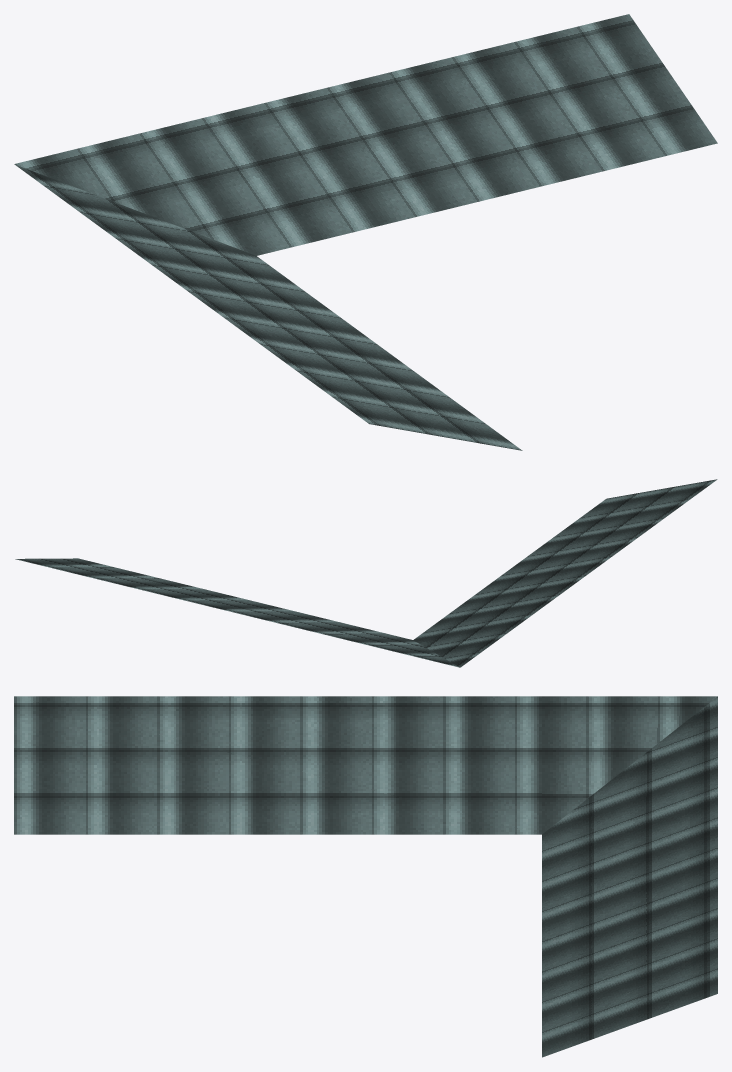
Rendered from roof_inner_corner_edge_4x4.glb.
The picture shows the model from 3 angles, top to bottom: view 1: azimuth 30°, elevation 25°; view 2: azimuth 150°, elevation 25°; view 3: azimuth 270°, elevation 25°; orthographic projection. The views are drawn at different scales.
Visible parts, largest first — view 1: roof_inner_corner_edge_4x4; view 2: roof_inner_corner_edge_4x4; view 3: roof_inner_corner_edge_4x4.
Part boxes in pixels (x1=…): roof_inner_corner_edge_4x4: x1=14, y1=14, x2=717, y2=450; roof_inner_corner_edge_4x4: x1=15, y1=479, x2=717, y2=667; roof_inner_corner_edge_4x4: x1=14, y1=696, x2=717, y2=1057.
Bounding box in the file's own units: 4 × 0.4 × 4.
1 material, 1 textured.
